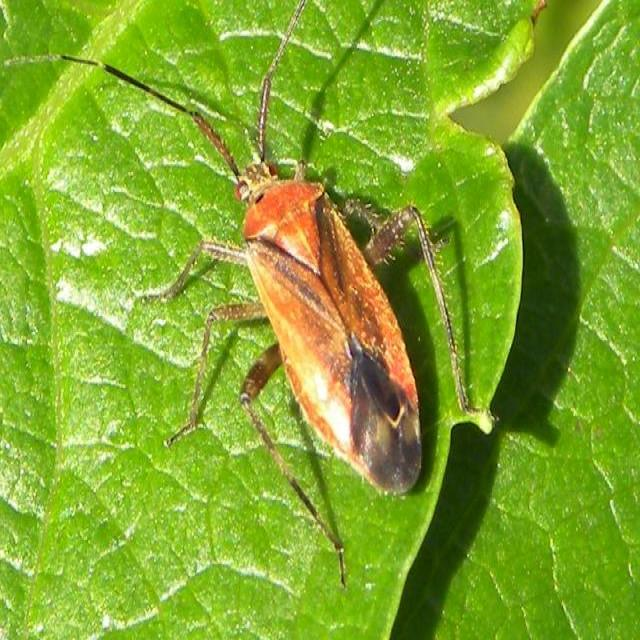Miridae-Adult-: (59, 18, 498, 552)
